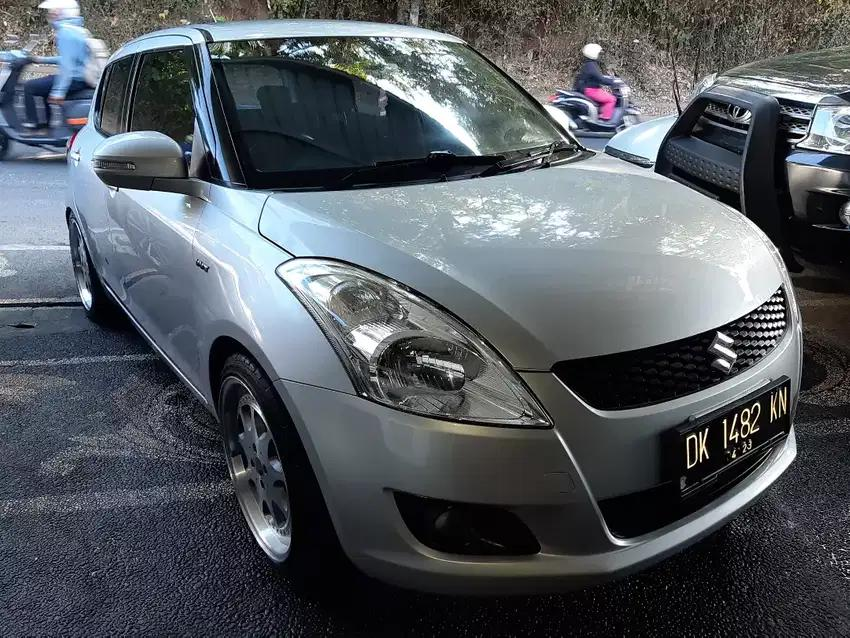plate: (676, 379, 791, 499)
